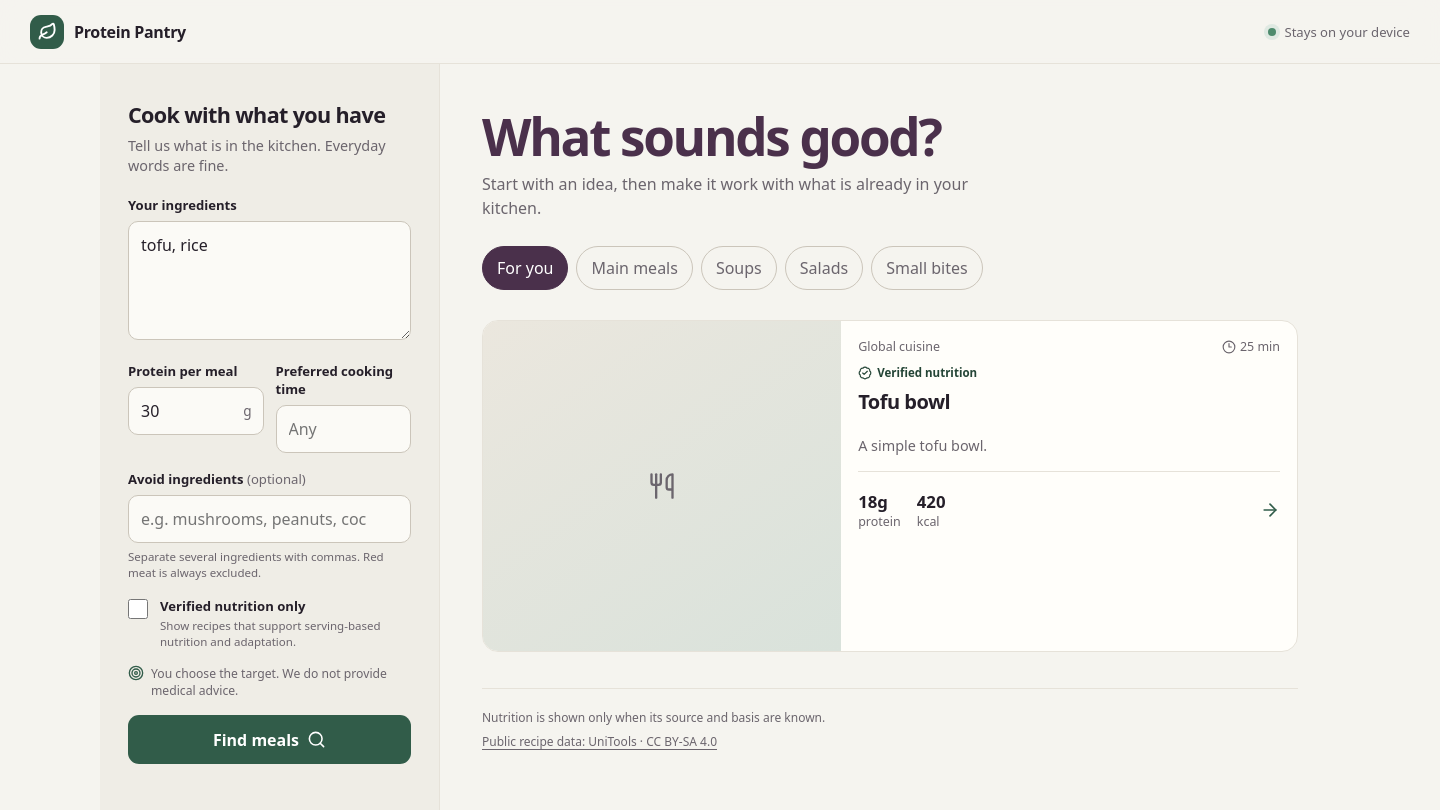
Test: shows a deterministic original-versus-adapted comparison
Click the button with aria-label "View Tofu bowl": (890, 486) [483,321,1297,651]
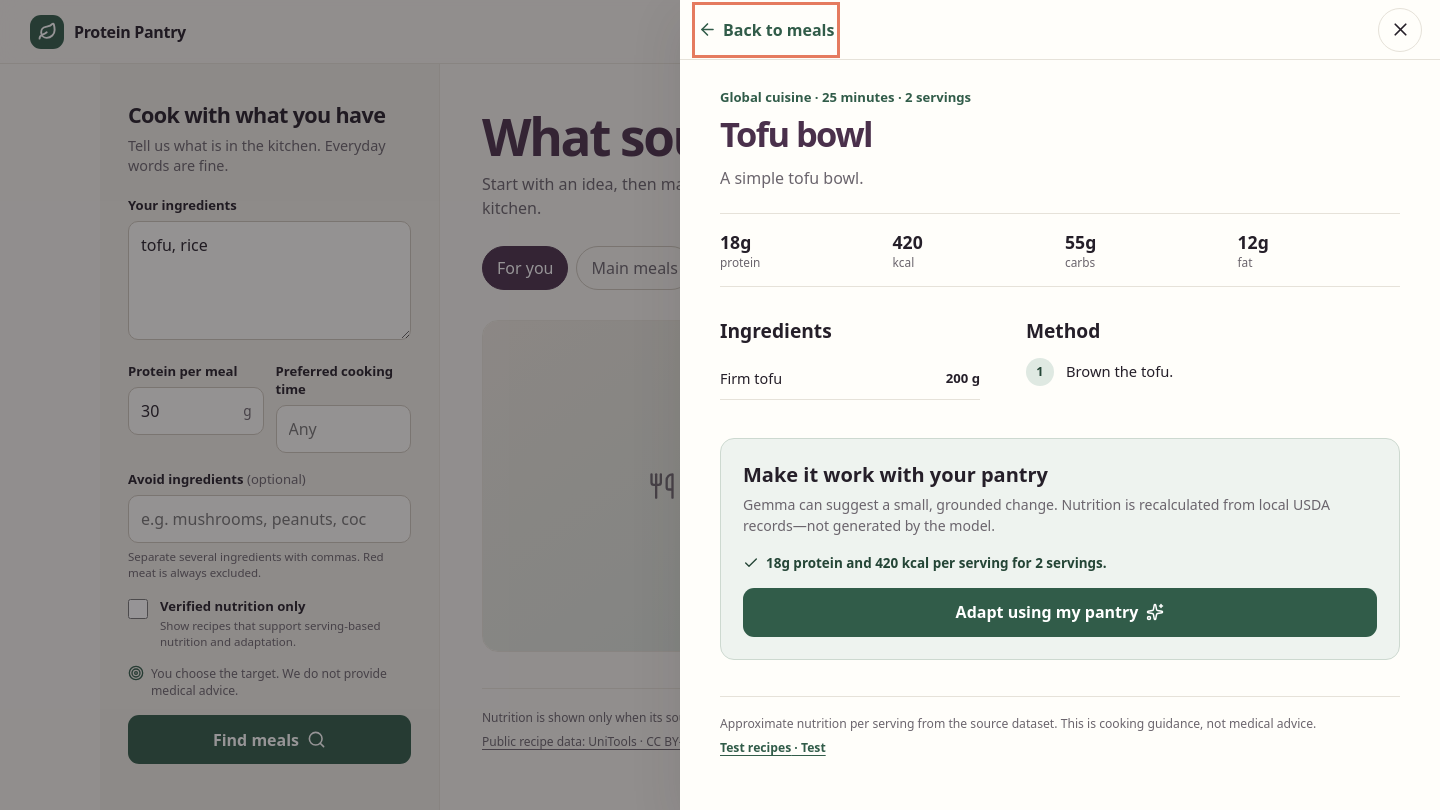
Click the button "Adapt using my pantry": (1060, 612) [743,588,1377,637]
(page scrolled)
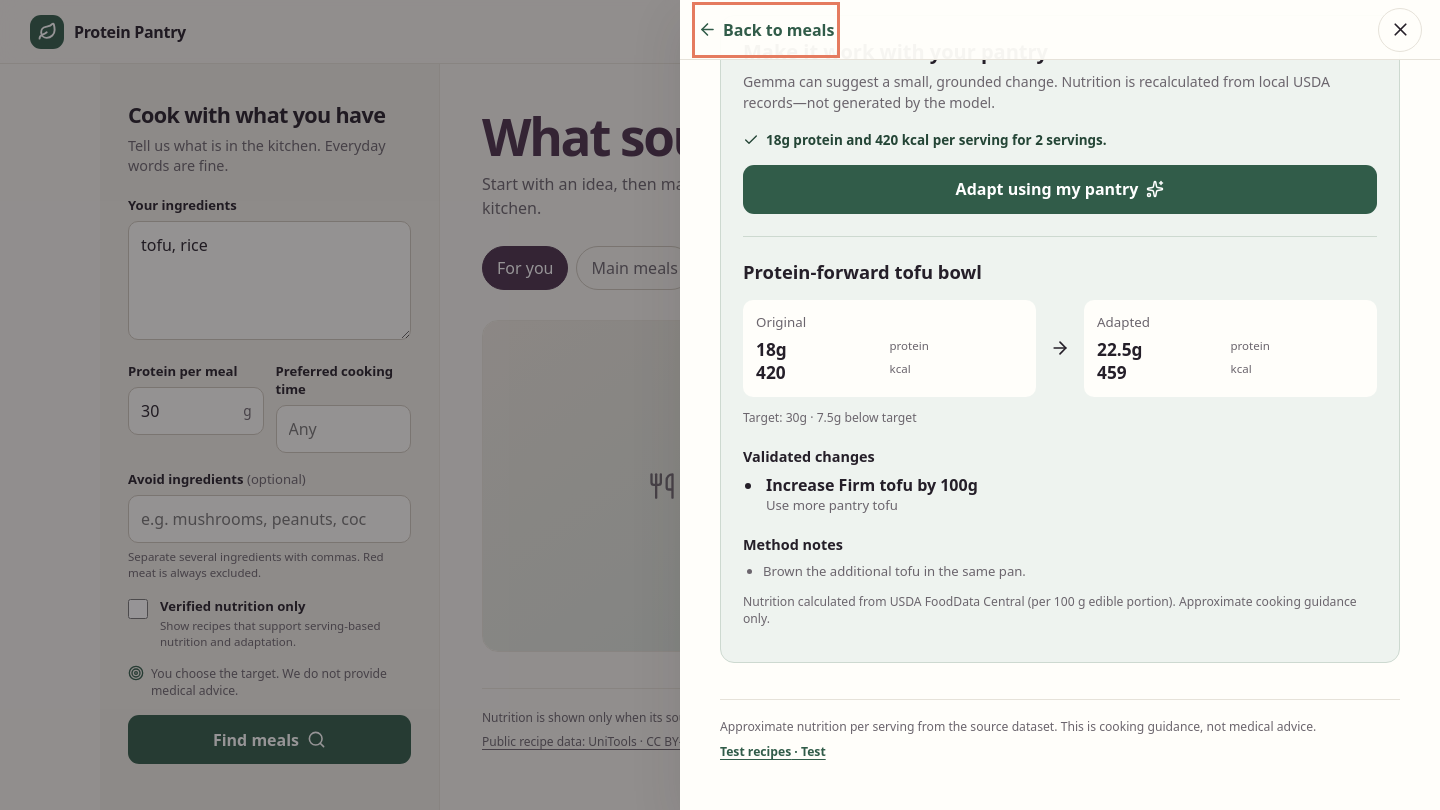
Check: the heading "Protein-forward tofu bowl" is shown, box [743,259,982,284]
Check: the text "Increase Firm tofu by 100g" is shown, box [766,474,978,496]
Check: the text "USDA FoodData Central" is shown, box [890,593,1025,610]
